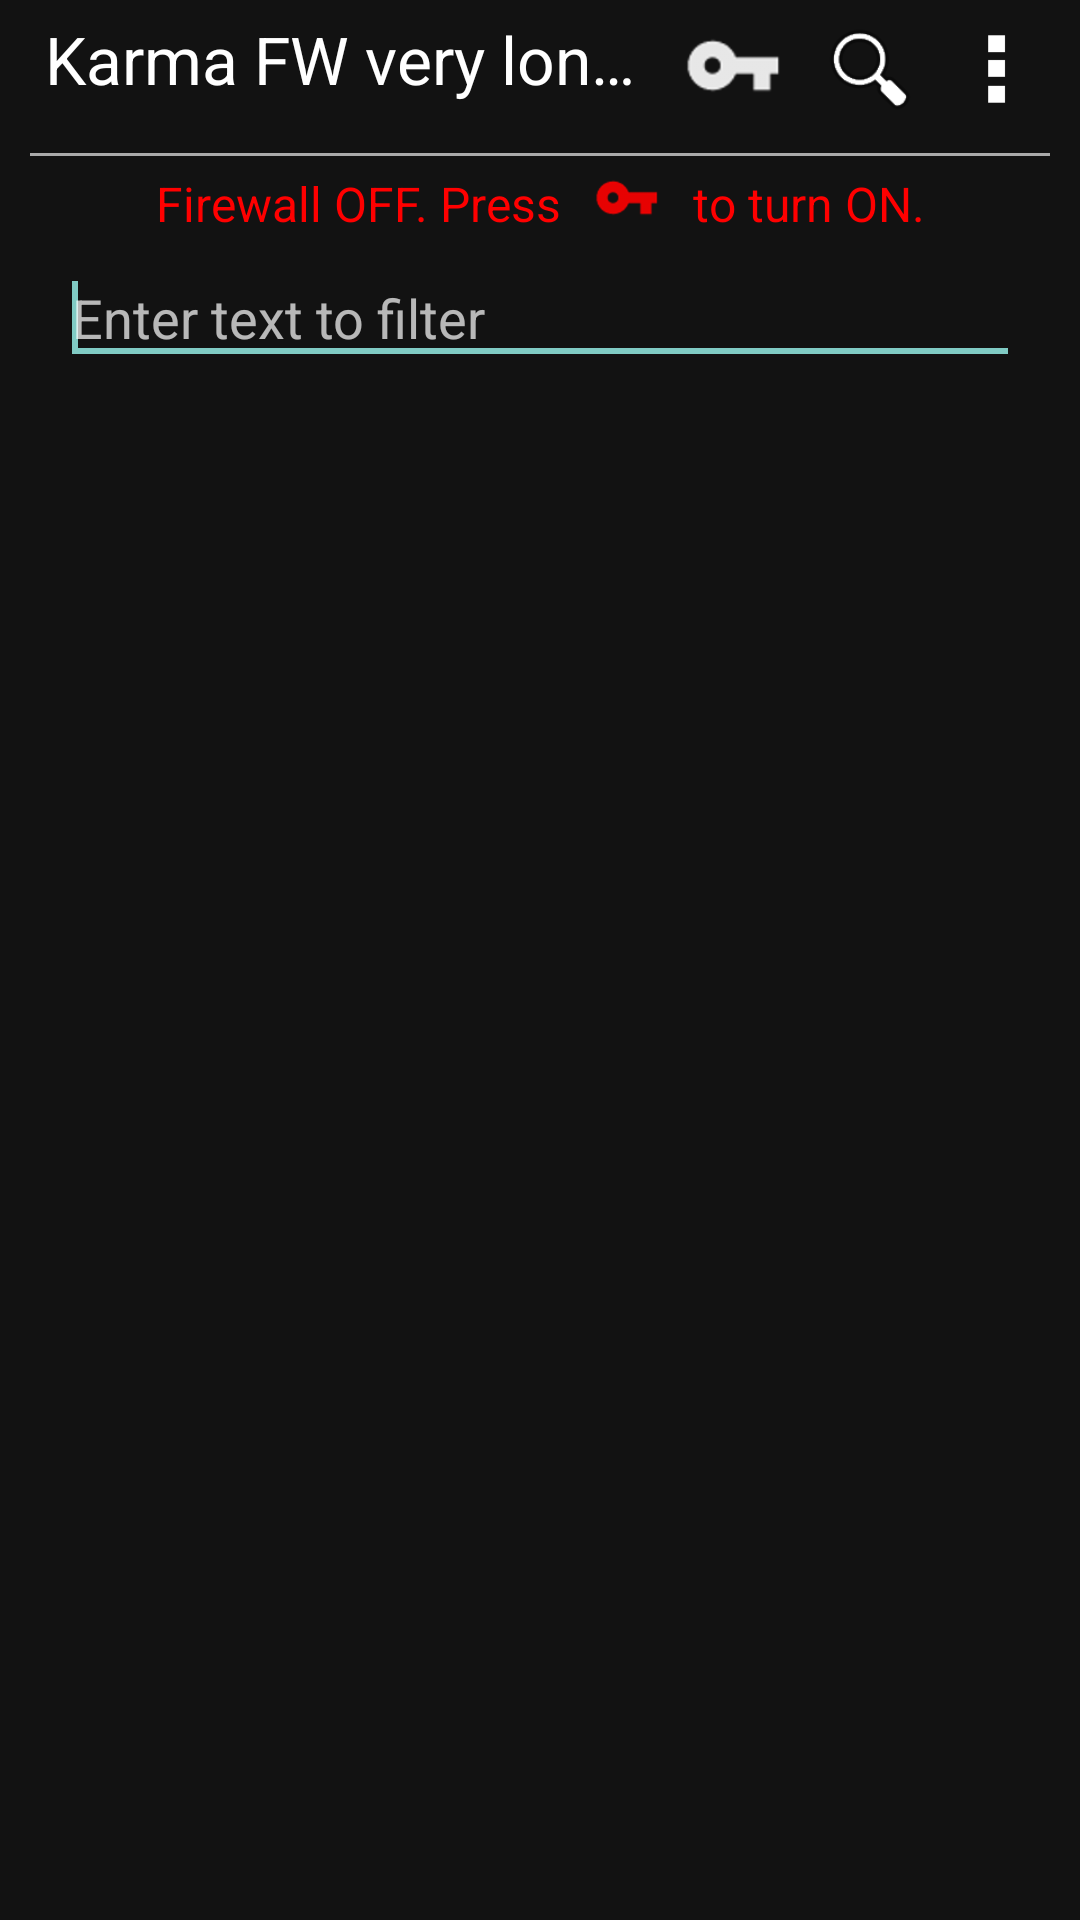

Point at icon controls on the screen. Image size 1080x1920, points as (x=x, y=y).
search: (x=870, y=69)
vpn connected: (x=733, y=65), (x=627, y=197)
